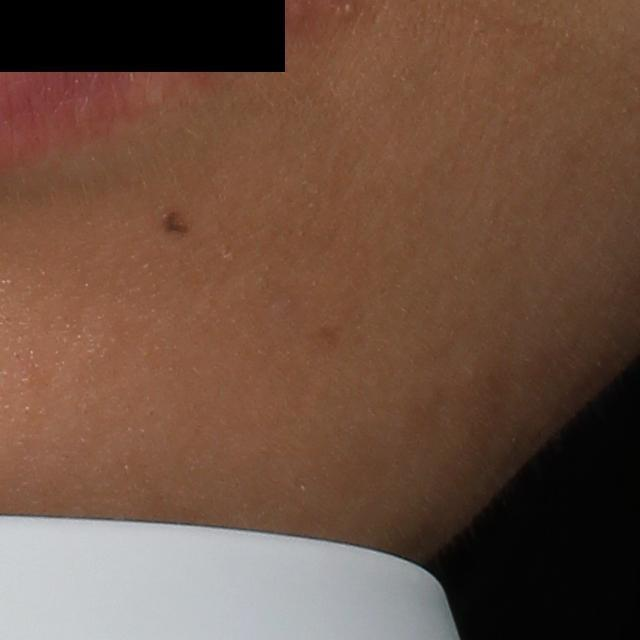nevus: (162, 206, 192, 235)
